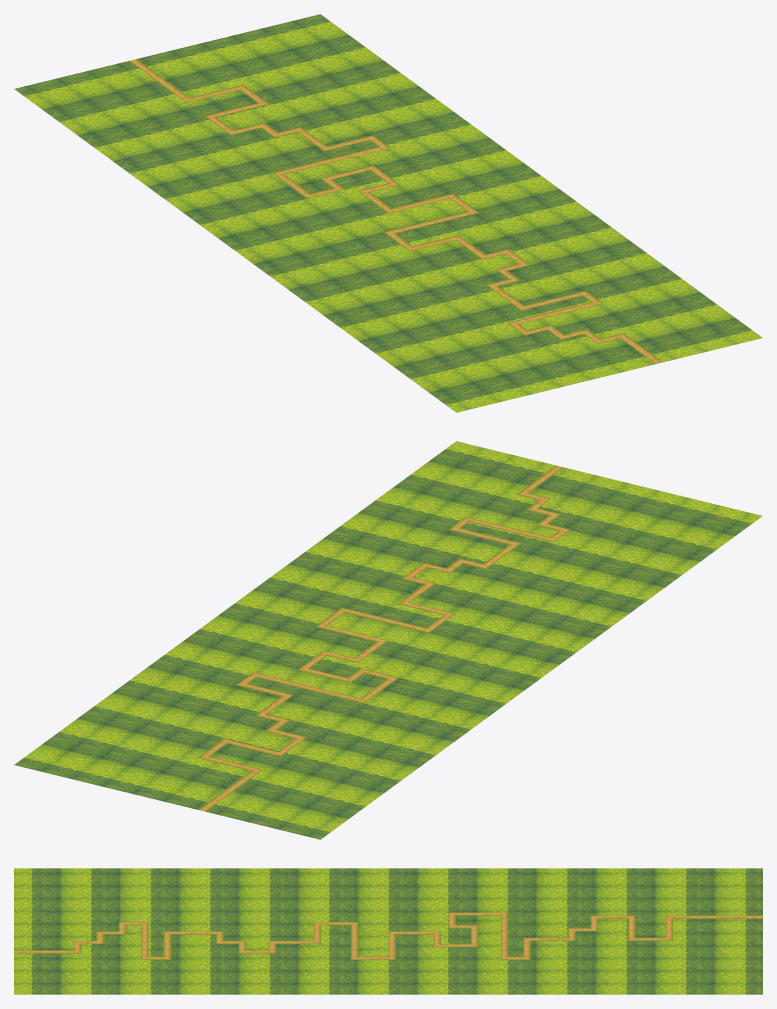
File: Ground.fbx
3 views of the same model, one above another, from view 1: azimuth 30°, elevation 25°; view 2: azimuth 150°, elevation 25°; view 3: azimuth 270°, elevation 25° (orthographic). The views are drawn at different scales.
Parts seen in each view (by area): view 1: Plane; view 2: Plane; view 3: Plane.
Part boxes in pixels (x1,y1,x2,y2): Plane: (14, 14, 762, 412); Plane: (14, 441, 762, 839); Plane: (14, 868, 762, 994).
Size of the model in its own units: 4000 by 0 by 10000.
